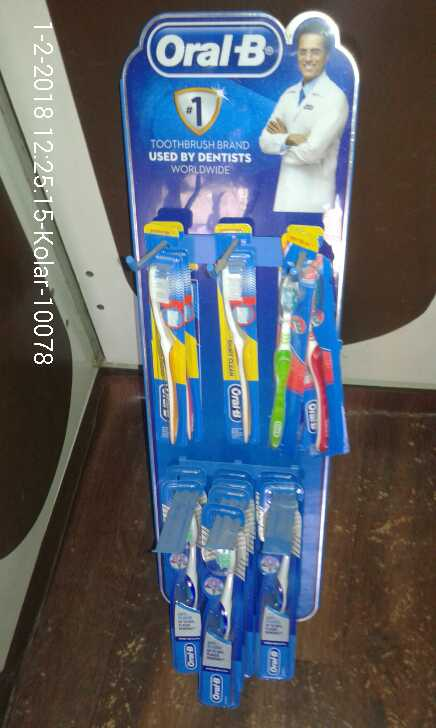oralb: (265, 249, 340, 452), (145, 263, 196, 436), (214, 262, 254, 445)
